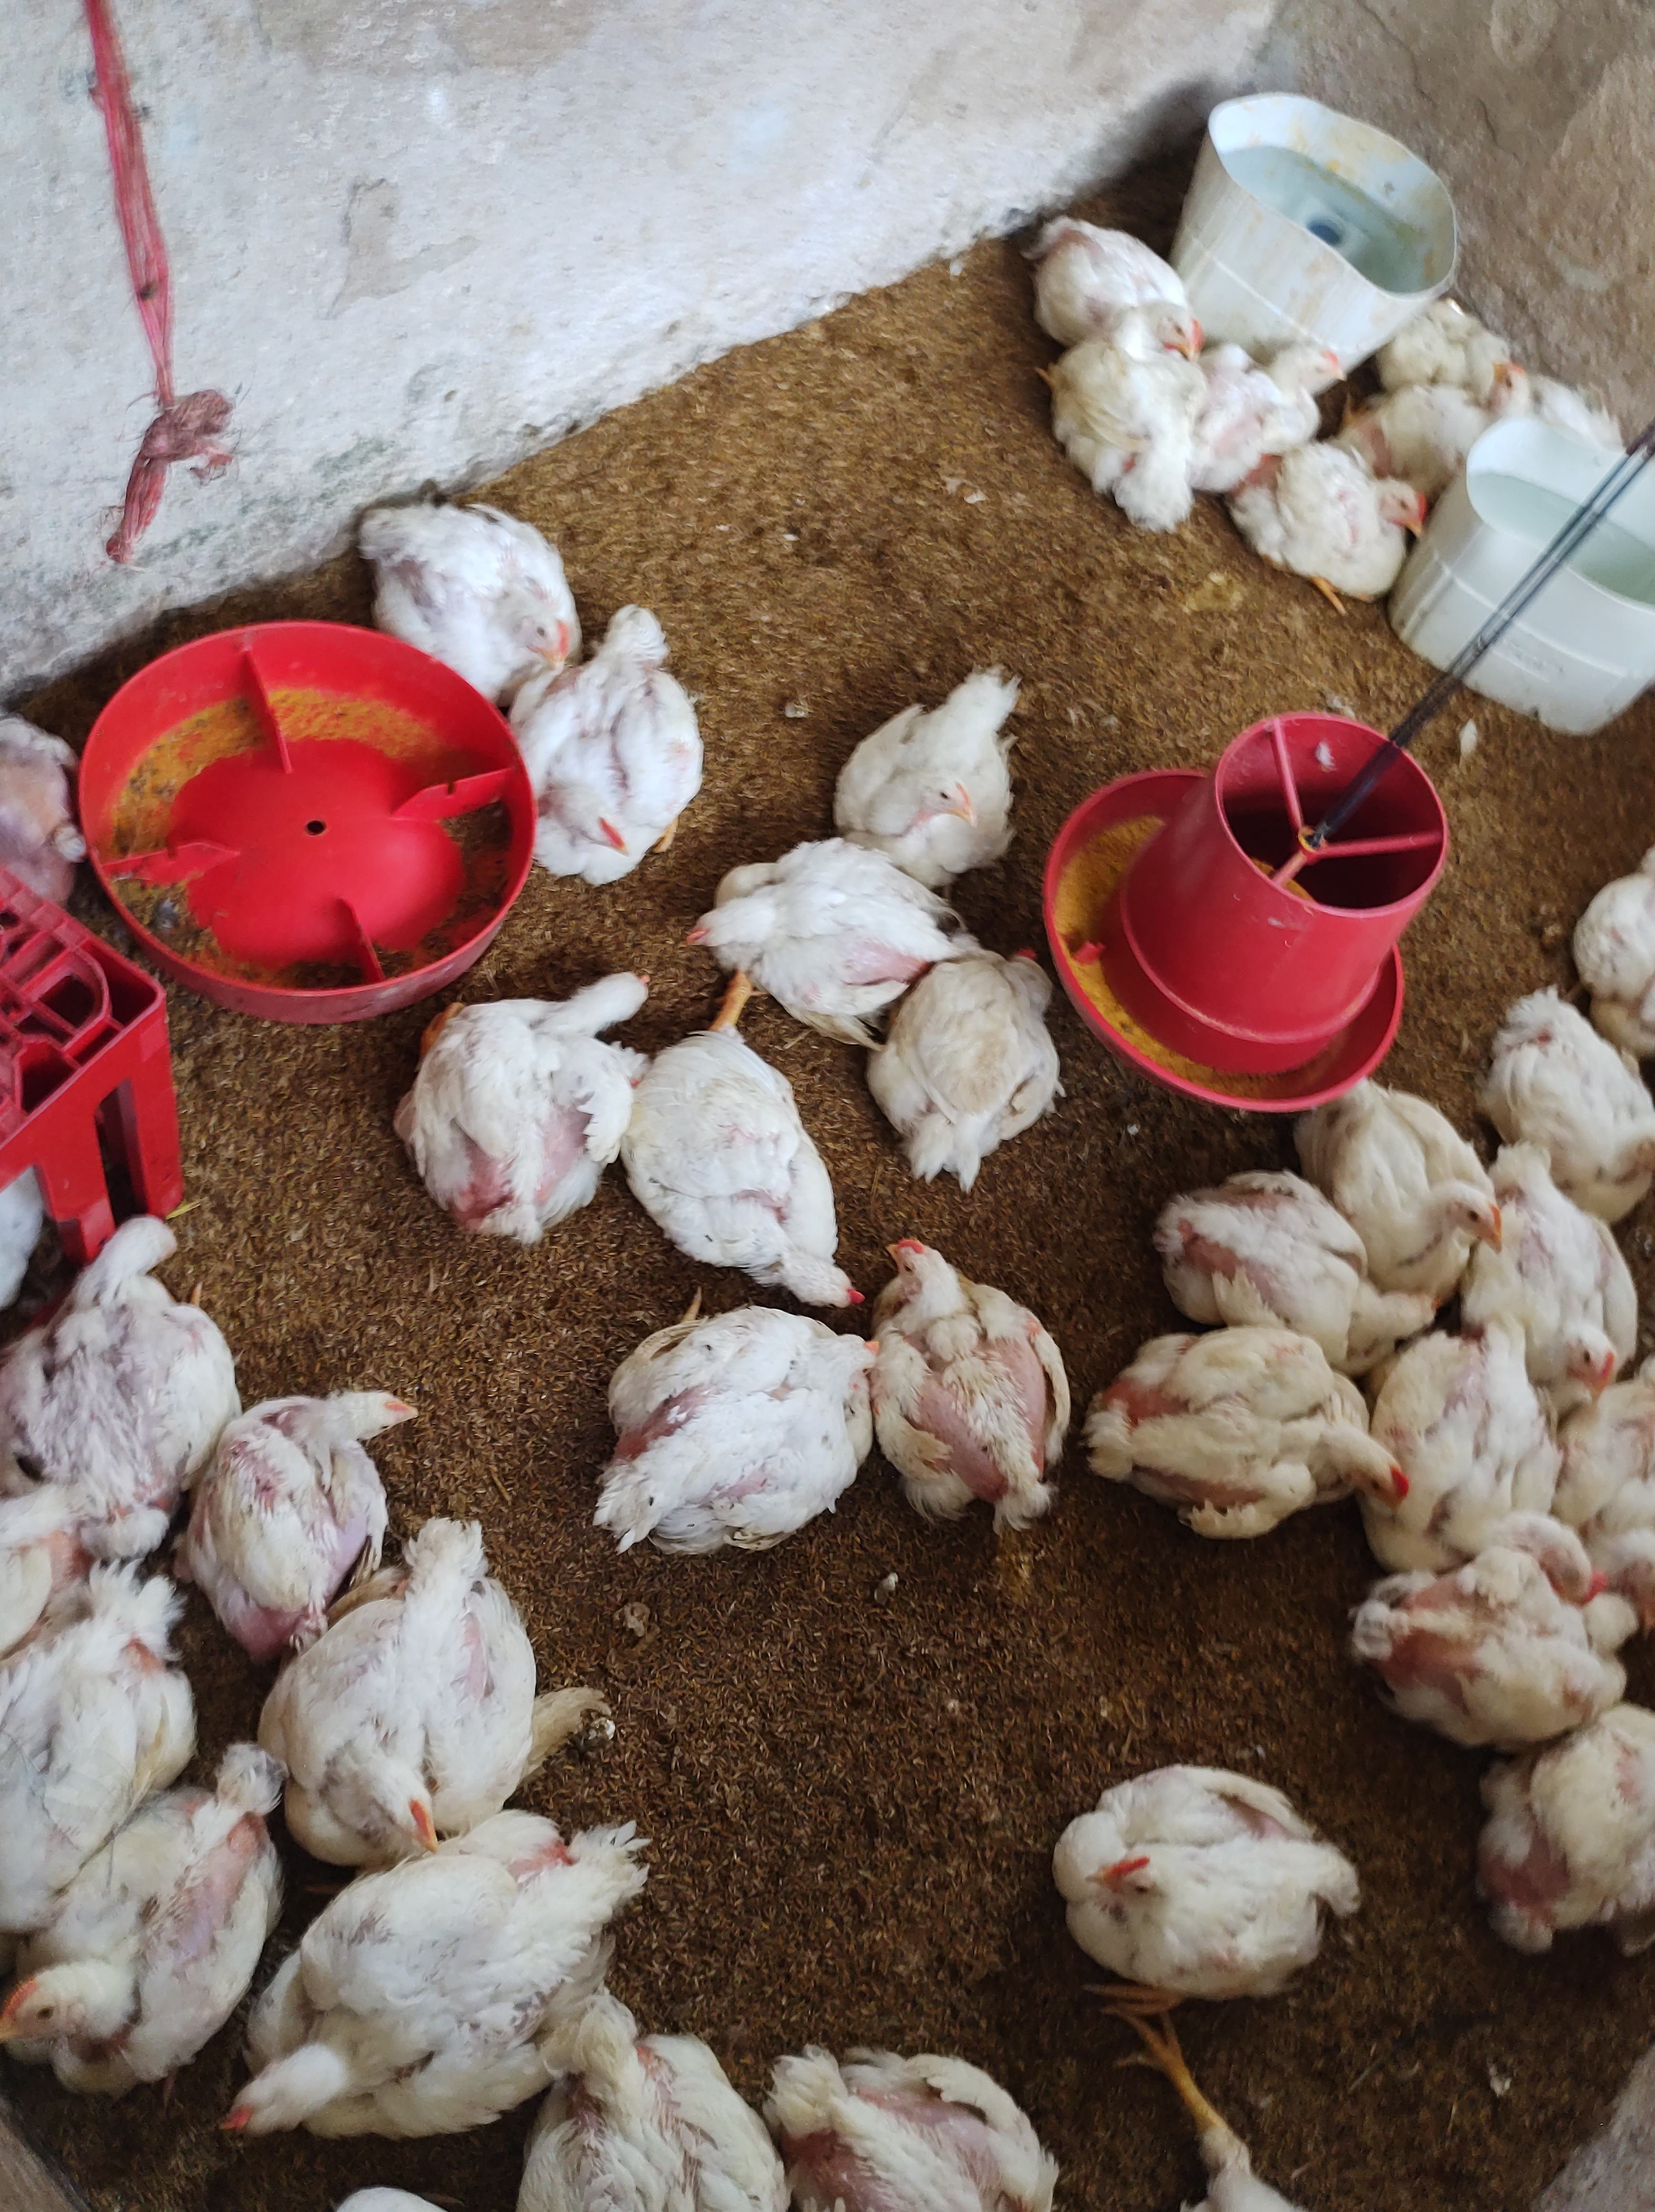Pollos: (238, 1795, 701, 2170), (0, 1749, 256, 2094), (285, 1548, 549, 1843), (1074, 1749, 1375, 1995), (389, 946, 647, 1231), (1085, 1315, 1408, 1536), (595, 1299, 864, 1558), (16, 1210, 214, 1534), (638, 1024, 841, 1325), (869, 1229, 1064, 1525), (492, 631, 708, 897), (775, 2010, 1050, 2212), (537, 1975, 770, 2212), (0, 1572, 193, 1857), (228, 1367, 447, 1617), (1346, 1555, 1648, 1732), (874, 930, 1095, 1169), (1166, 1162, 1417, 1349), (339, 480, 584, 668), (1290, 1056, 1502, 1264), (1476, 1736, 1655, 1962), (1106, 2019, 1314, 2212), (1478, 1146, 1648, 1379), (708, 847, 972, 995), (1476, 984, 1655, 1186), (871, 656, 1036, 863), (1057, 294, 1208, 515), (1255, 463, 1441, 609), (1041, 207, 1184, 329), (1525, 1496, 1610, 1598), (1462, 358, 1544, 431)
